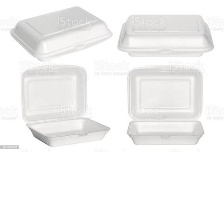foam_box: (15, 59, 113, 150), (122, 60, 208, 147), (6, 3, 114, 63), (113, 7, 216, 61)
